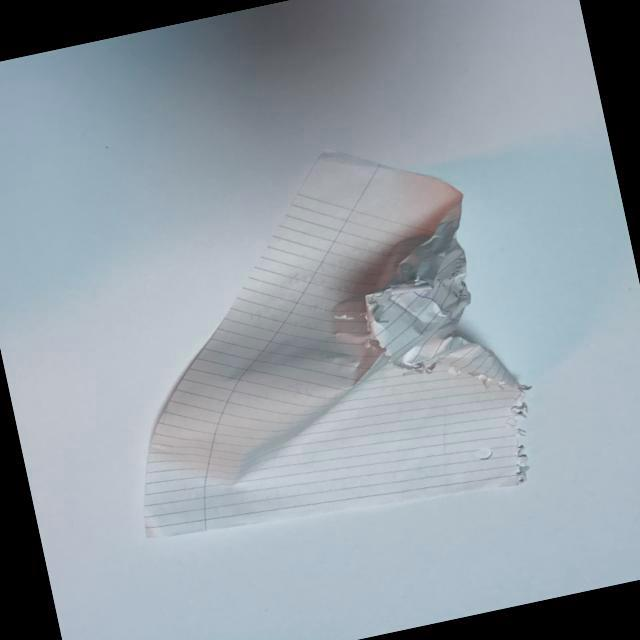paper: (52, 115, 570, 612)
